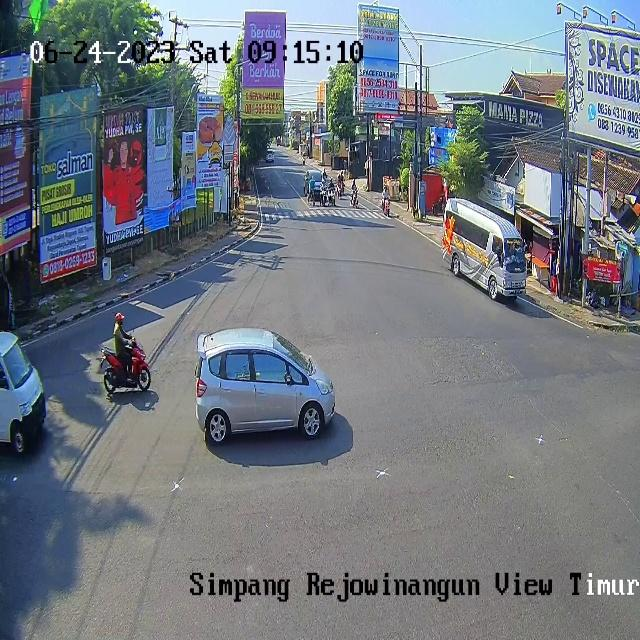bus: (100, 336, 151, 393), (382, 197, 391, 218), (351, 188, 359, 209), (320, 188, 327, 208), (330, 186, 336, 205), (340, 179, 344, 195)
car: (441, 198, 526, 299)
motorcycle: (196, 328, 336, 444), (0, 331, 47, 455), (305, 170, 325, 199)
